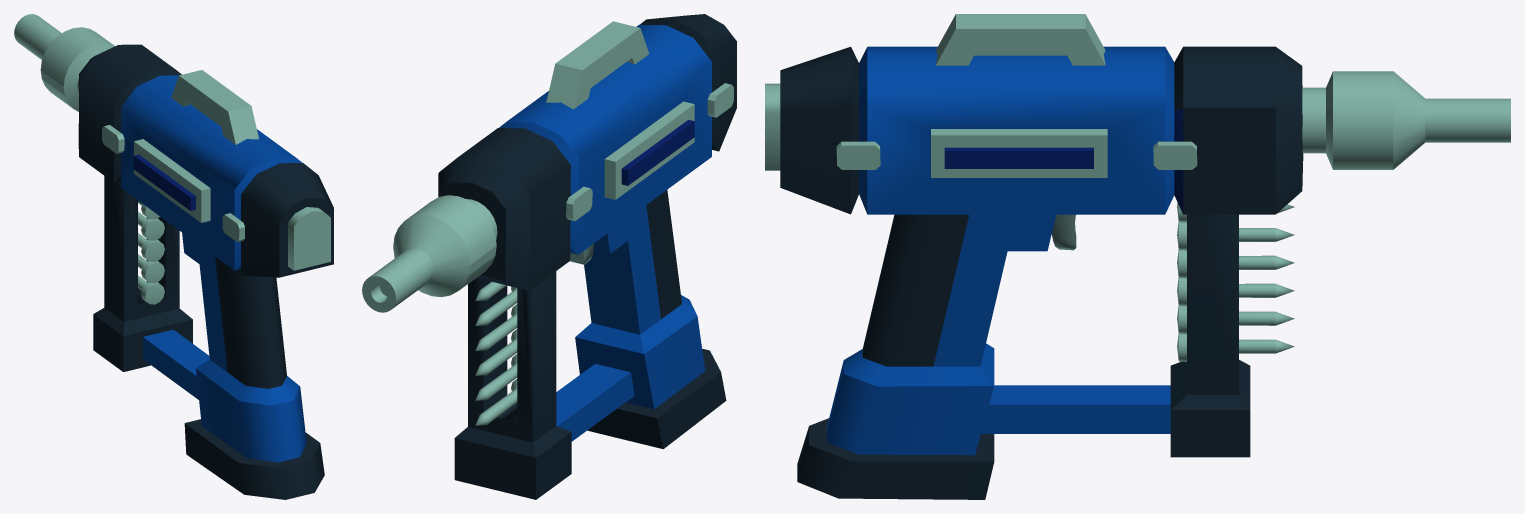
File: gunloose.fbx
3 views of the same model, side by side, from view 1: azimuth 30°, elevation 25°; view 2: azimuth 150°, elevation 25°; view 3: azimuth 270°, elevation 25° (orthographic). The views are drawn at different scales.
Visible parts, largest first — view 1: gun; view 2: gun; view 3: gun.
Part boxes in pixels (x1,y1,x2,y2): gun: (14,14,333,499); gun: (362,14,736,499); gun: (765,14,1510,499).
Bounding box in the file's own units: 62.1 × 190 × 285.
